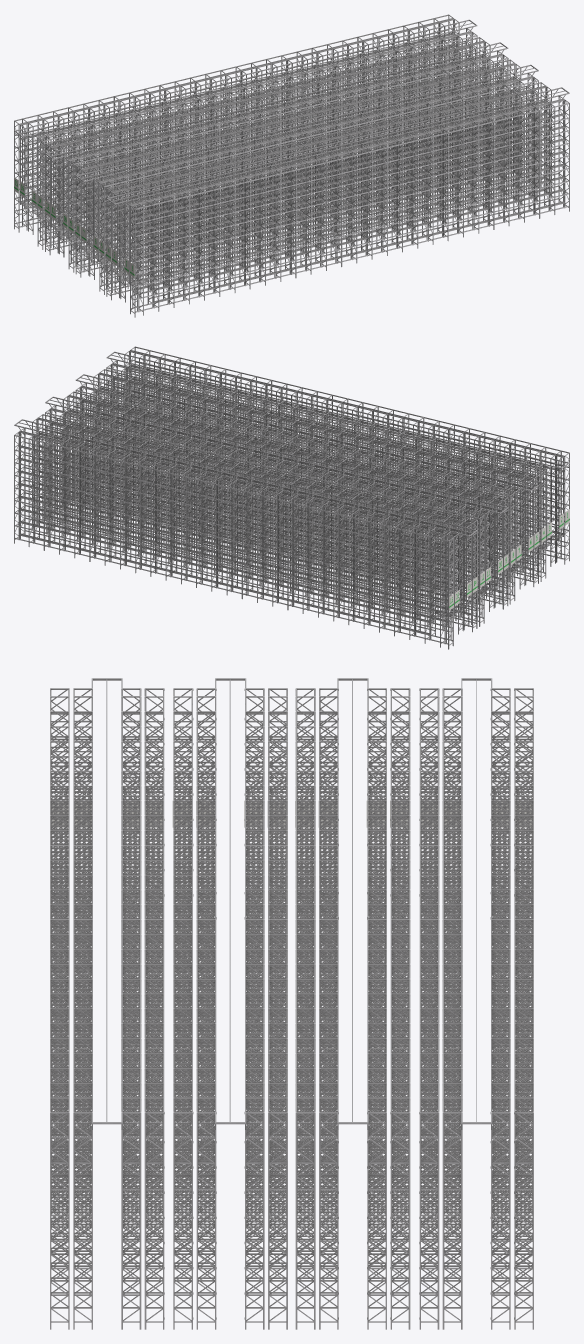
The model's file is SND_liku.glb.
3 renders of one model, top to bottom at view 1: azimuth 30°, elevation 25°; view 2: azimuth 150°, elevation 25°; view 3: azimuth 270°, elevation 25°, orthographic. The views are drawn at different scales.
Size of the model in its own units: 621 by 142 by 286.
2 materials, 2 textured.
